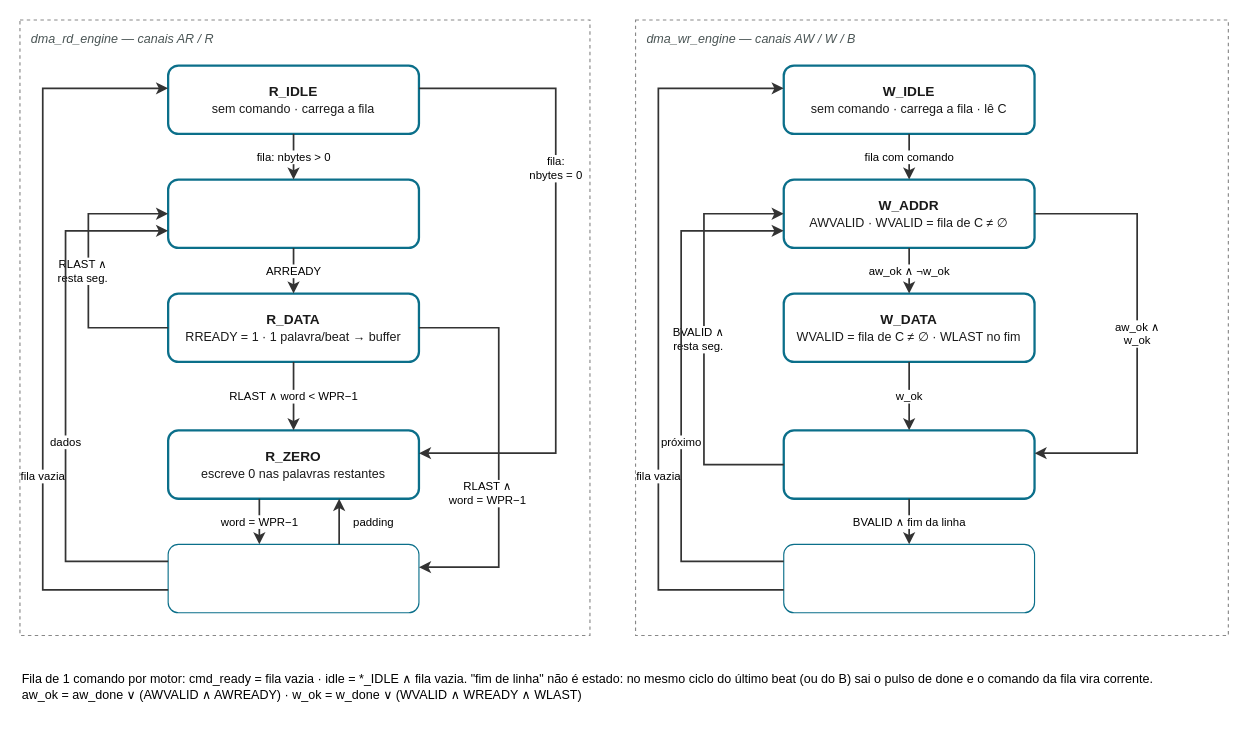
This 1248x741 diagram has some shape labels left out. Here are the shapes that lost their labels. From the top down, the box of each, then its label:
(166, 178, 420, 249): R_AR ARVALID · ARLEN = seg_len−1
(782, 429, 1035, 499): W_RESP BREADY = 1
(167, 543, 419, 613): fim de linha pulso rd_done · carrega a fila
(783, 543, 1035, 613): fim de linha pulso wr_done · carrega a fila
